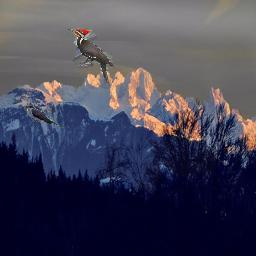Cuckoo: (24, 105, 64, 129)
Woodpecker: (67, 28, 114, 86)
